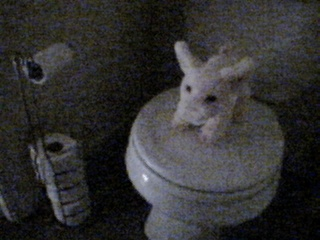piggy: (170, 38, 255, 143)
